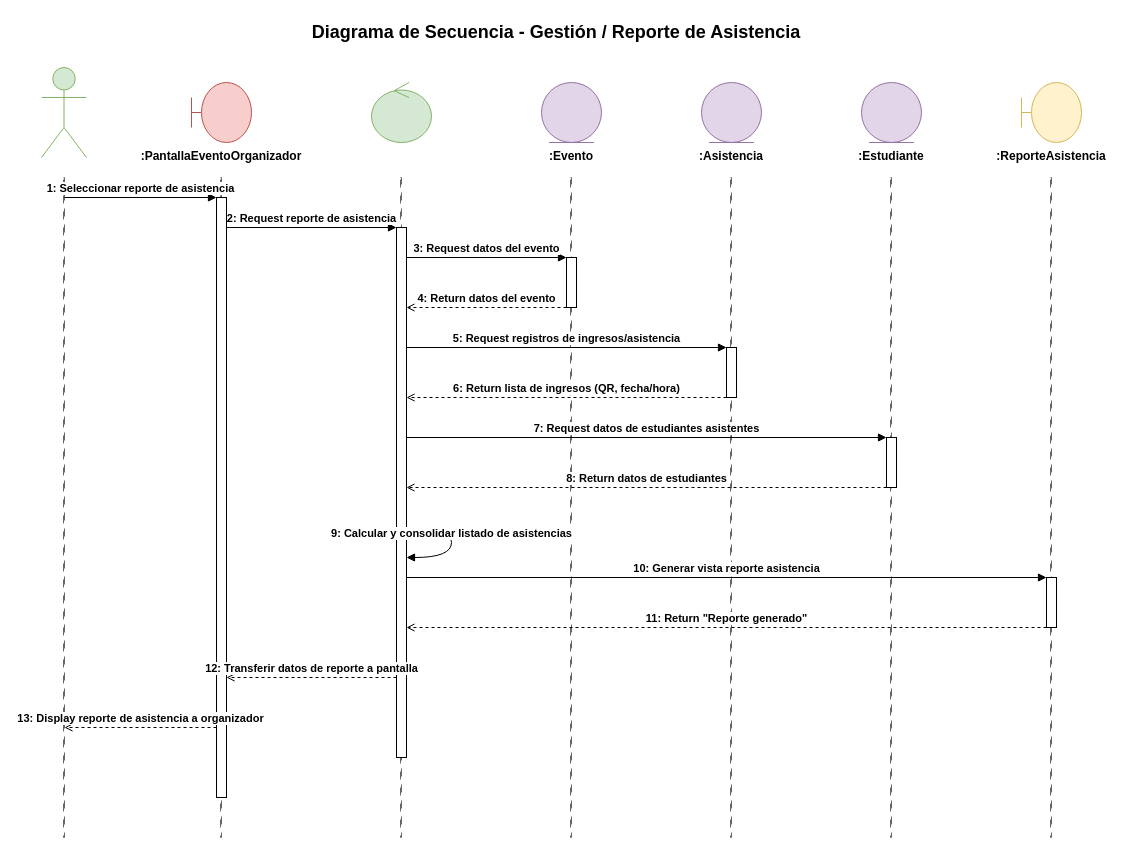
This 1123x855 diagram has some shape labels left out. Each missing label, with the centre of its shape:
:GestionAsistencia: point (401, 112)
Organizador: point (63, 112)
